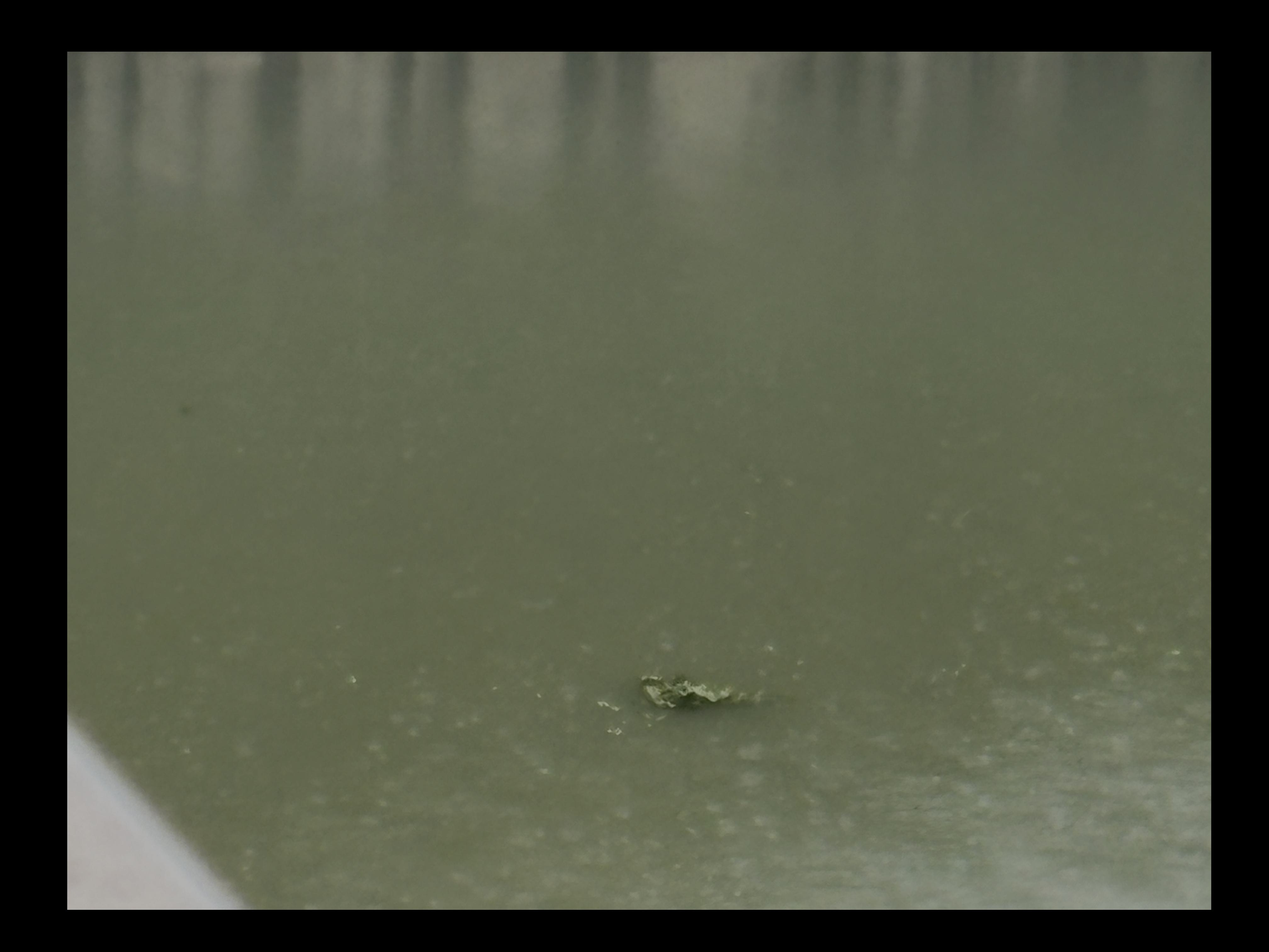Other: (640, 677, 763, 707)
